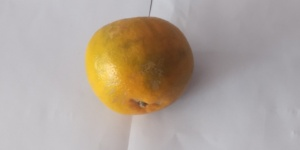BAD: (85, 17, 199, 117)
